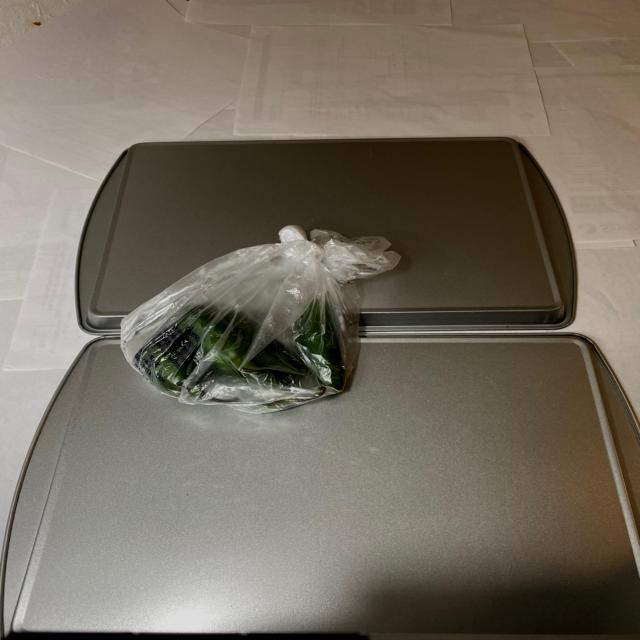chilli: (111, 230, 408, 407)
